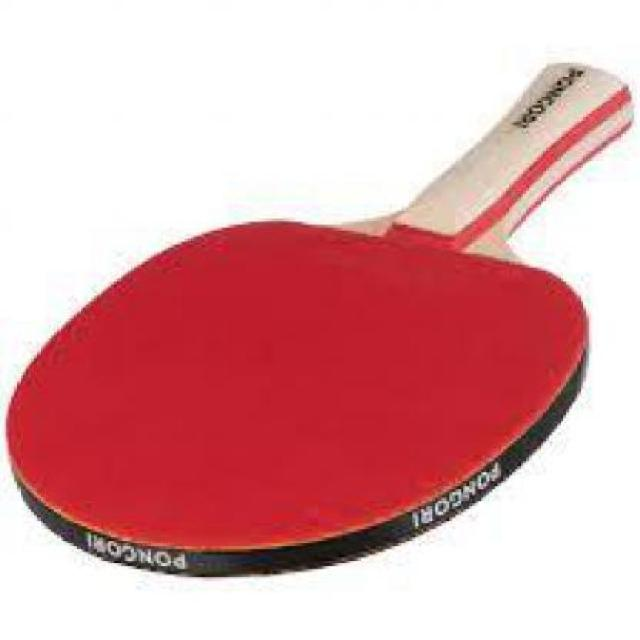table_tennis_racket: (0, 205, 595, 586)
